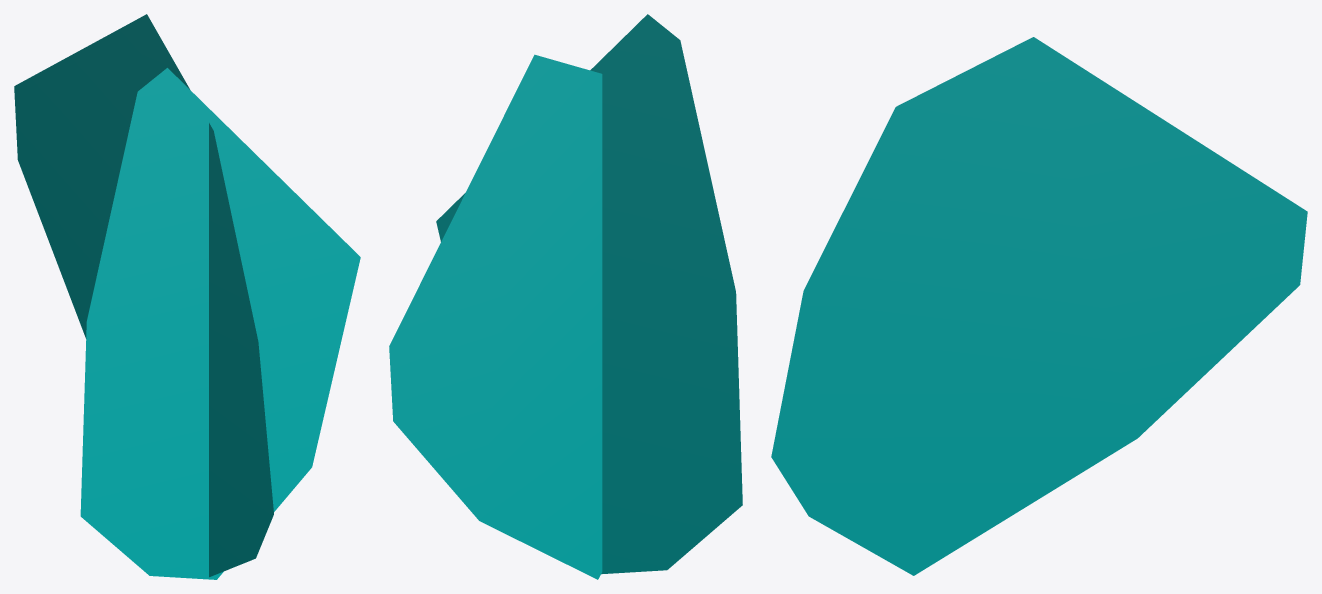
File: European_Spindle_wk1ncbxja_Mid_wk1ncbxja_VarG_LOD3.fbx
3 renders of one model, left to right at view 1: azimuth 30°, elevation 25°; view 2: azimuth 150°, elevation 25°; view 3: azimuth 270°, elevation 25°, orthographic. The views are drawn at different scales.
Visible parts, largest first — view 1: _w9ne_VarG_LOD4; view 2: _w9ne_VarG_LOD4; view 3: _w9ne_VarG_LOD4.
Part boxes in pixels (box(x1,y1,x2,y2)): _w9ne_VarG_LOD4: box(14, 14, 360, 579); _w9ne_VarG_LOD4: box(389, 14, 742, 579); _w9ne_VarG_LOD4: box(771, 37, 1307, 575).
Bounding box in the file's own units: 33.66 × 60.2 × 54.09.
